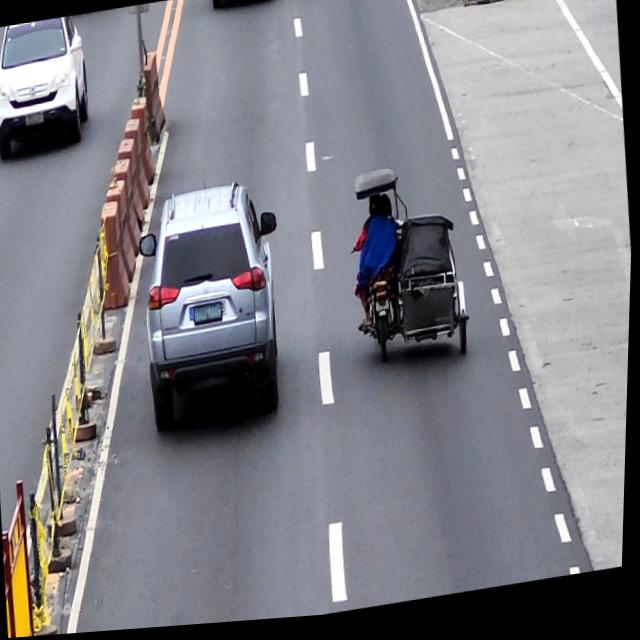Car: (136, 181, 283, 433)
License-Plate: (194, 305, 228, 330)
Tricycle: (345, 161, 476, 377)
